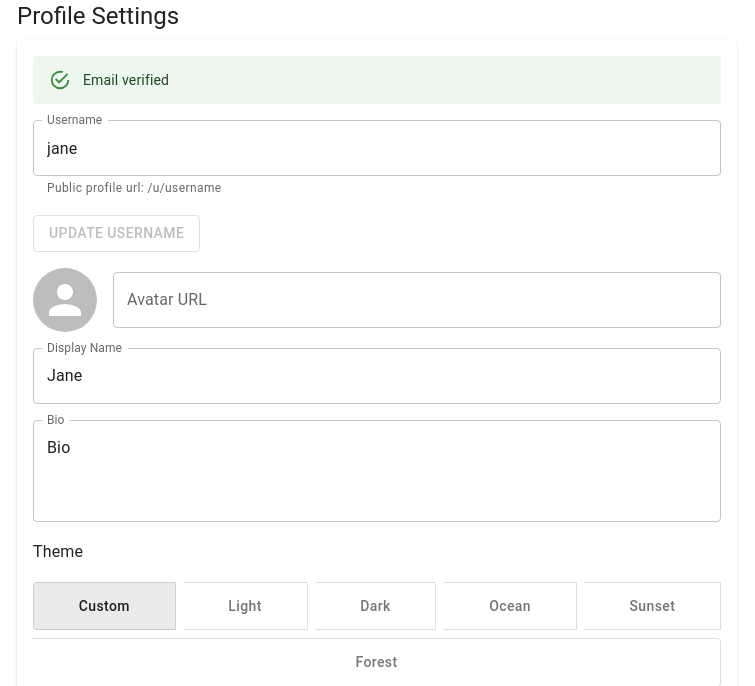
Scenario: ProfileSettings theming presets › selecting preset updates color inputs and flags preset
This screenshot has width=755, height=686.
Expected: the heading "Profile Settings" is shown, [17,2,179,30]
Click the button "Light". click: (245, 606)
box: [183,582,308,630]
(page scrolled)
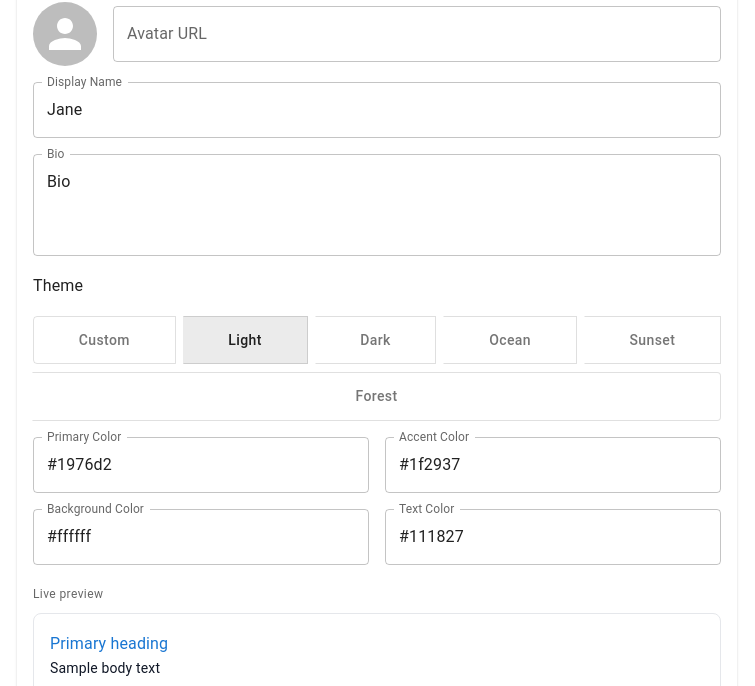
Expected: the field labelled "Primary Color" holds "#1976d2", [33,437,369,493]
Expected: the field labelled "Accent Color" holds "#1f2937", [385,437,721,493]
Expected: the field labelled "Background Color" holds "#ffffff", [33,509,369,565]
